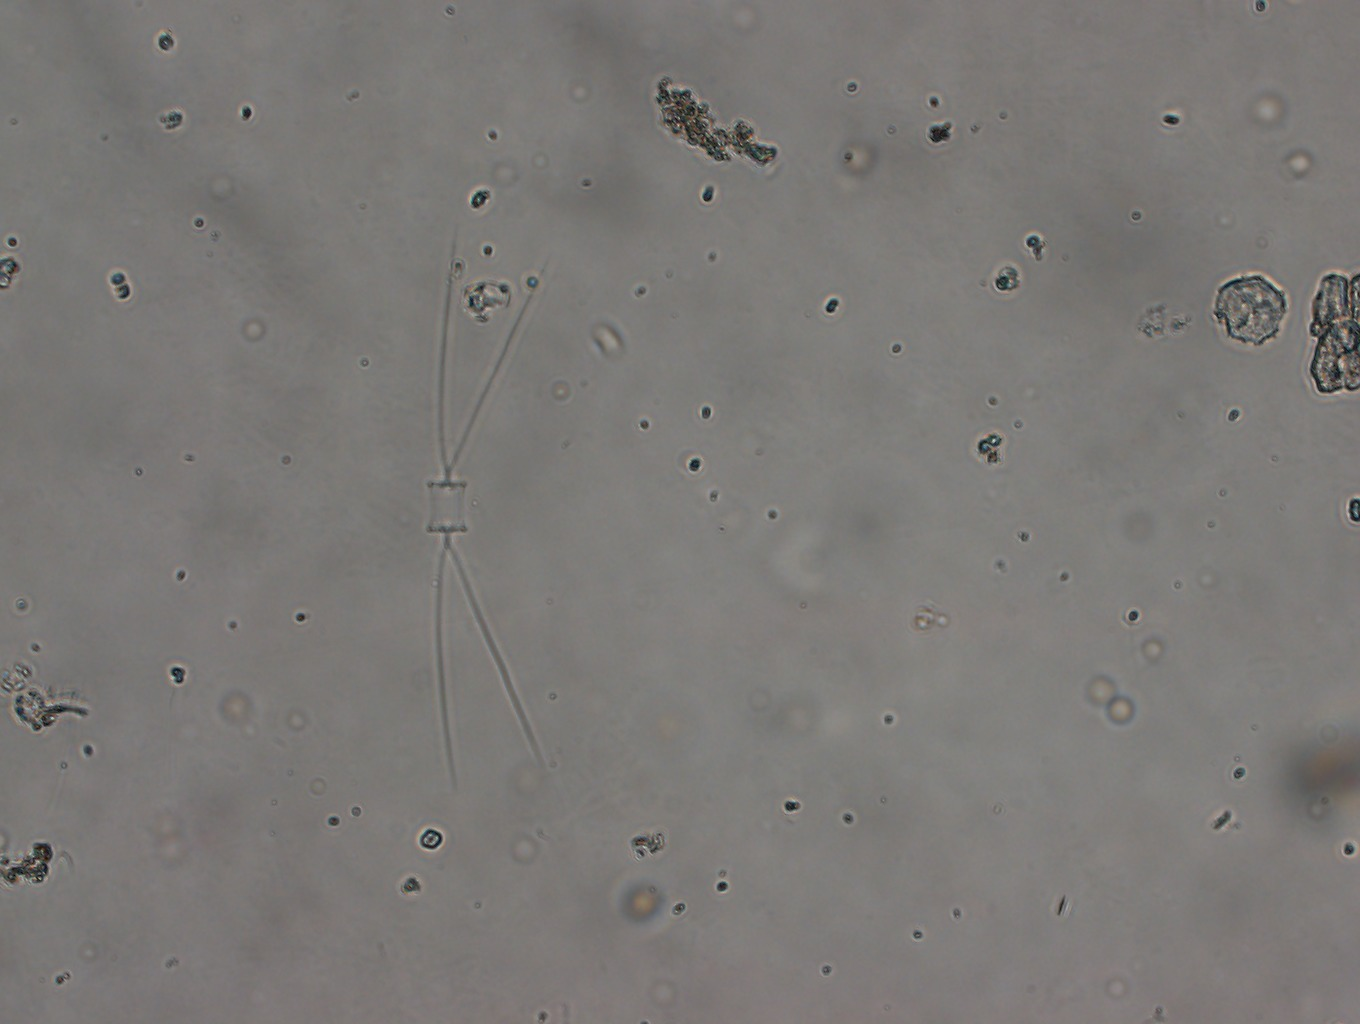chaetoceros: (426, 231, 549, 782)
